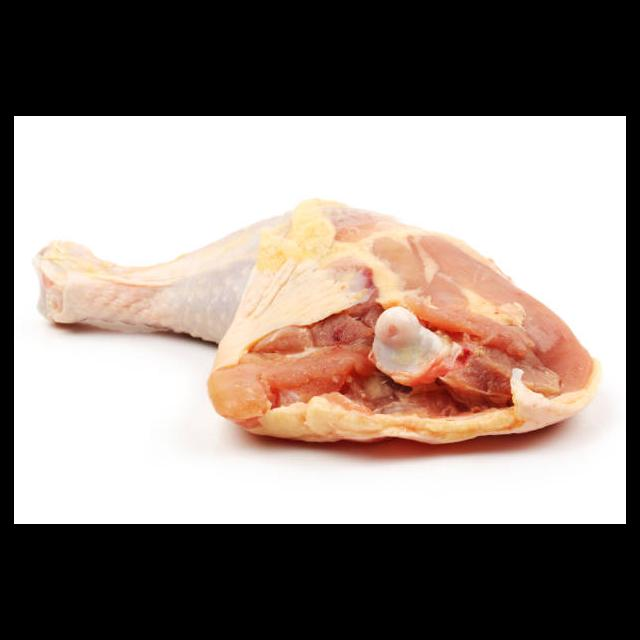chicken: (31, 196, 603, 451)
